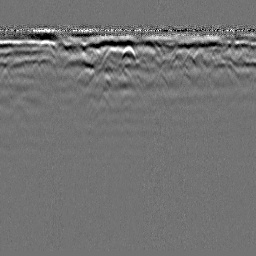cavity: (120, 42, 135, 63)
